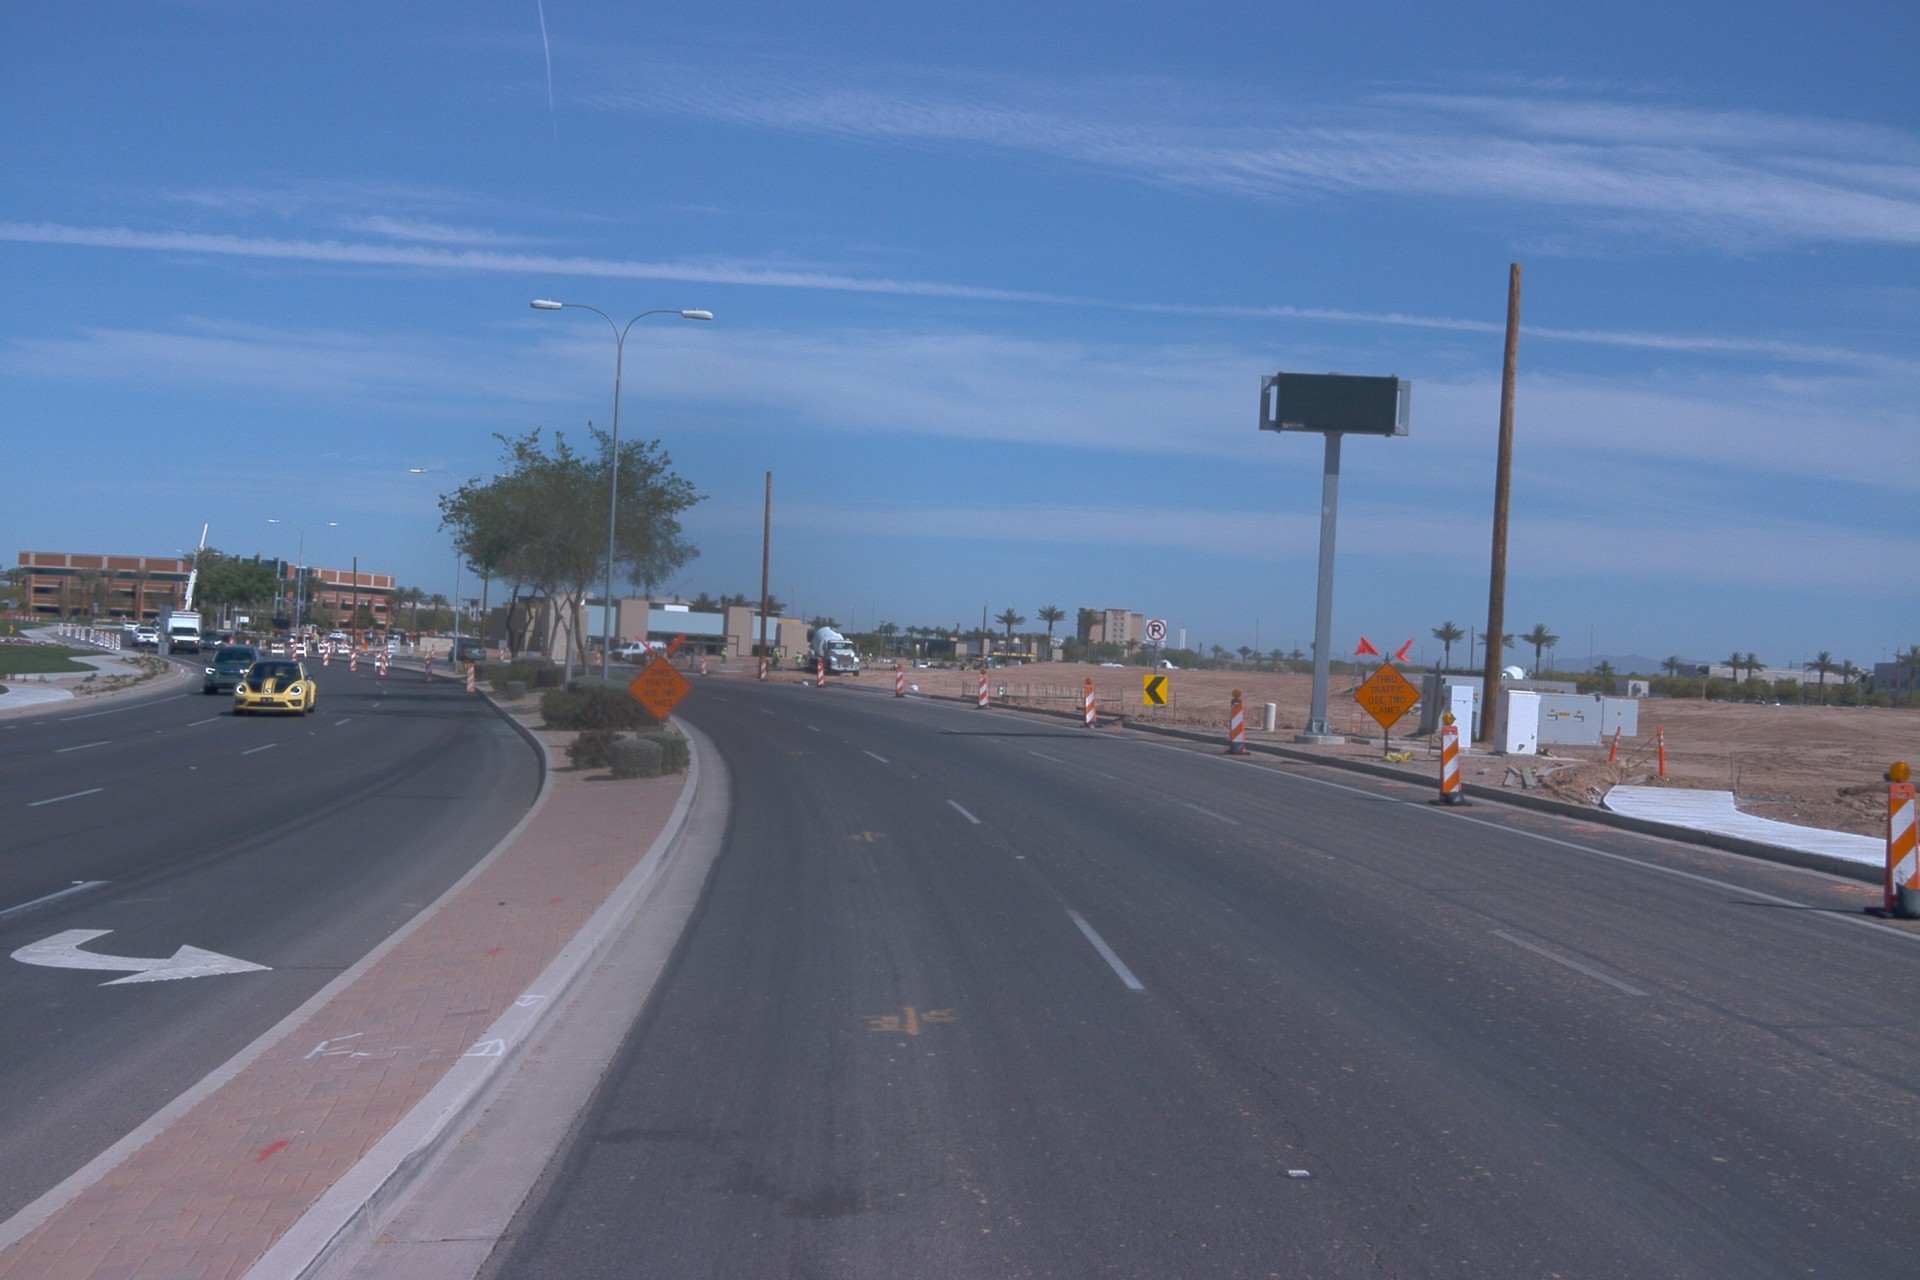TYPE_PEDESTRIAN: (792, 650, 803, 671), (772, 648, 781, 669), (719, 645, 728, 666), (771, 646, 777, 665), (865, 652, 872, 668)
TYPE_VEHICLE: (148, 520, 213, 663), (229, 657, 319, 716), (201, 643, 261, 695), (161, 610, 206, 655), (607, 640, 669, 663), (447, 638, 490, 657), (1498, 663, 1534, 685), (957, 653, 998, 672), (132, 627, 163, 651), (274, 629, 304, 647), (200, 633, 227, 651), (124, 620, 143, 633), (1099, 662, 1125, 671), (606, 644, 620, 657), (805, 646, 818, 658), (919, 660, 934, 669), (766, 652, 784, 658), (437, 631, 448, 640), (737, 654, 747, 658)
